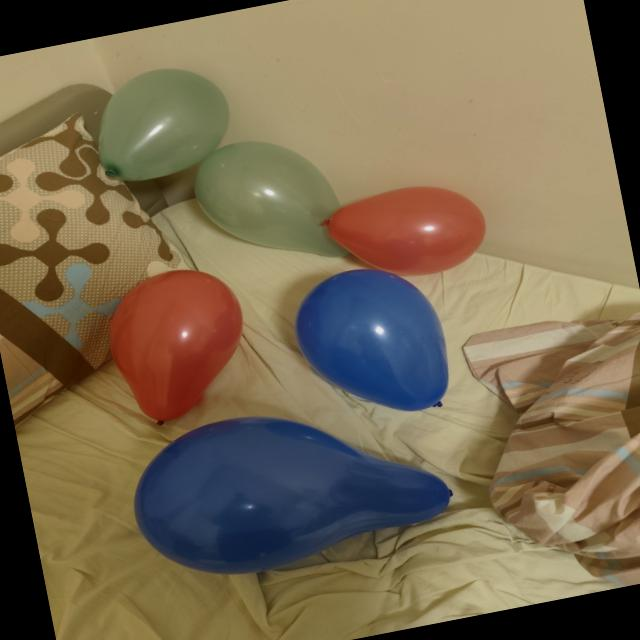balloon: (135, 417, 450, 574), (295, 269, 448, 411), (110, 270, 243, 421), (195, 142, 349, 256), (99, 69, 229, 181), (328, 187, 485, 275)
